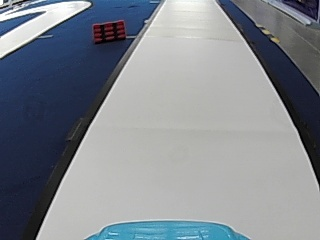bomb: (92, 18, 125, 42)
